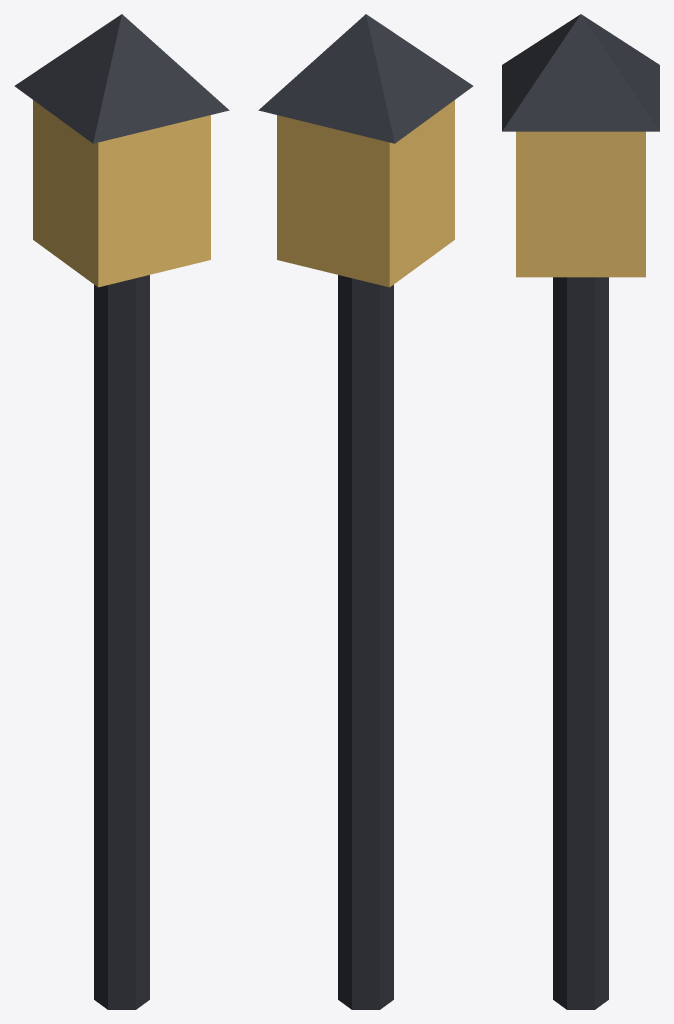
File: garden2_lantern_post.glb
3 renders of one model, left to right at view 1: azimuth 30°, elevation 25°; view 2: azimuth 150°, elevation 25°; view 3: azimuth 270°, elevation 25°, orthographic.
Visible parts, largest first — view 1: lantern_post; view 2: lantern_post; view 3: lantern_post.
Part boxes in pixels (left/top/right/bottom): lantern_post: left=14, top=14, right=229, bottom=1009; lantern_post: left=258, top=14, right=473, bottom=1009; lantern_post: left=502, top=14, right=659, bottom=1009.
Size of the model in its own units: 0.1697 by 1.17 by 0.1697.
